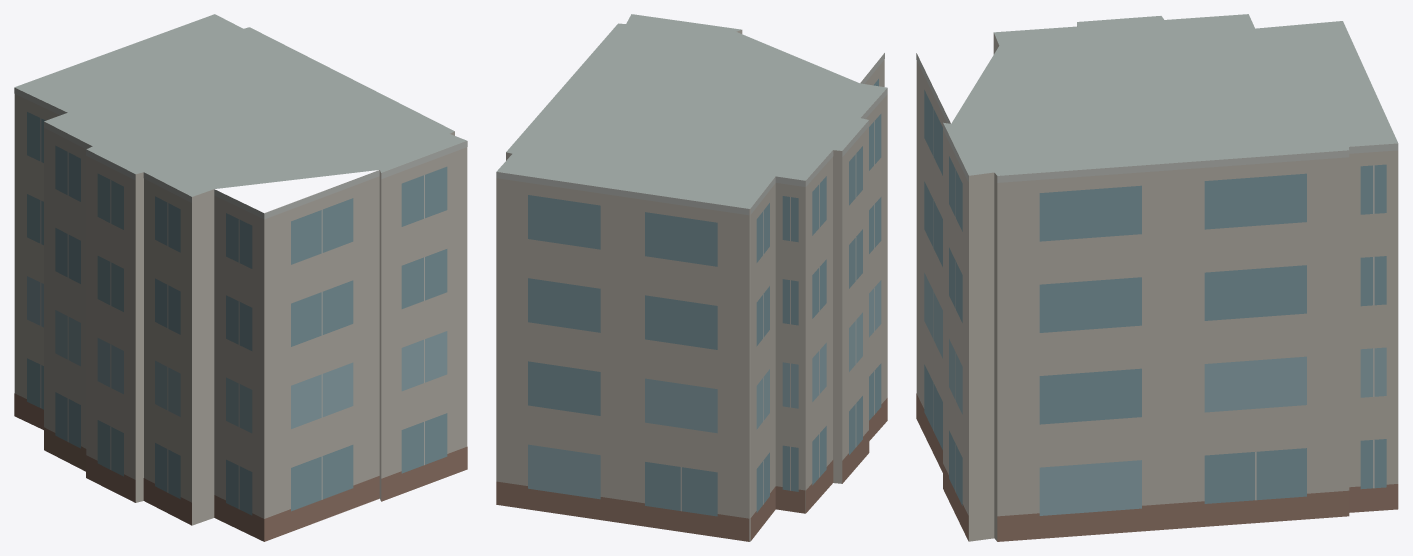
The model's file is survey-upis-32495516.glb.
The picture shows the model from 3 angles, left to right: view 1: azimuth 30°, elevation 25°; view 2: azimuth 150°, elevation 25°; view 3: azimuth 270°, elevation 25°; orthographic projection. The views are drawn at different scales.
Visible parts, largest first — view 1: survey-upis-32495516.tmp; view 2: survey-upis-32495516.tmp; view 3: survey-upis-32495516.tmp.
Boxes of the visible parts, box(x1,y1,x2,y2) form: survey-upis-32495516.tmp: box(14, 14, 467, 541); survey-upis-32495516.tmp: box(496, 14, 887, 541); survey-upis-32495516.tmp: box(916, 14, 1398, 541).
Bounding box in the file's own units: 12.16 × 12.8 × 15.29.
